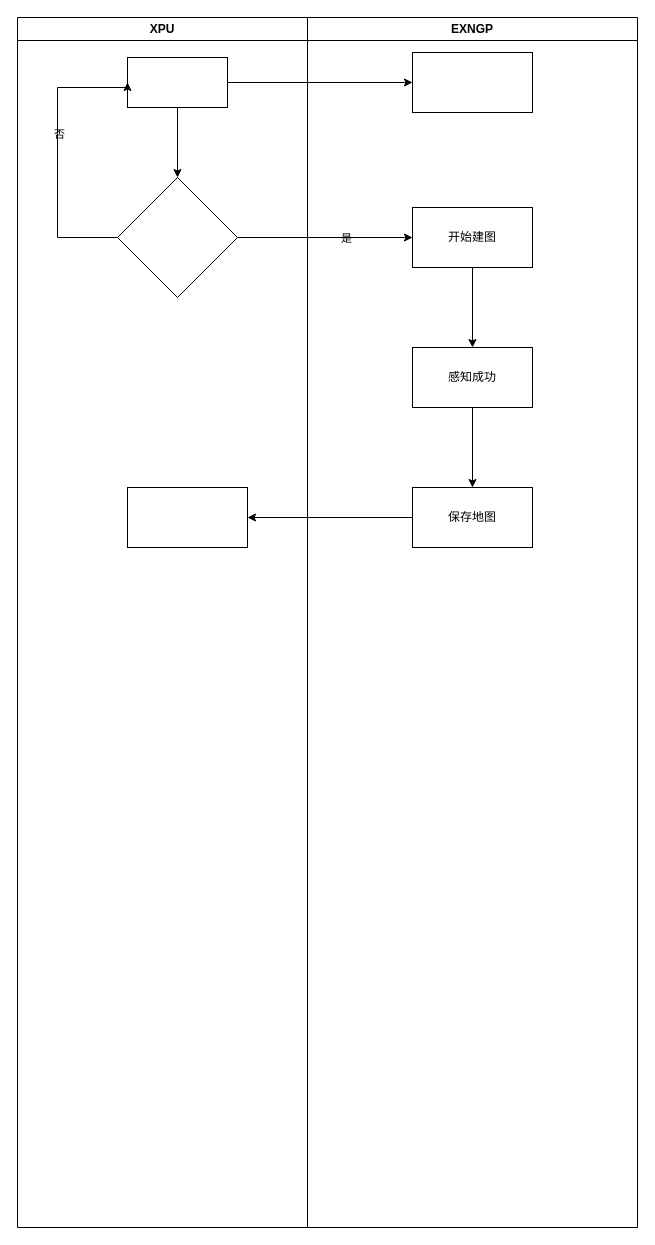
Some shapes in this 655 by 1245 pixel diagram are drawn without their labels. The centre of each missing label's shape, as x and y in pixels:
系统上电: point (177, 82)
自车是否在园区: point (177, 237)
